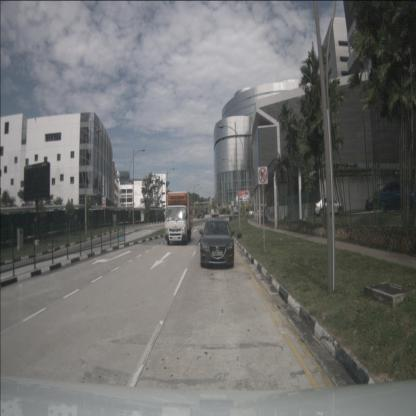vehicle-car: (200, 219, 234, 268), (378, 180, 416, 213), (315, 196, 343, 218), (365, 192, 392, 212)
vehicle-truck: (165, 192, 193, 245), (196, 206, 204, 219), (211, 209, 219, 218)
